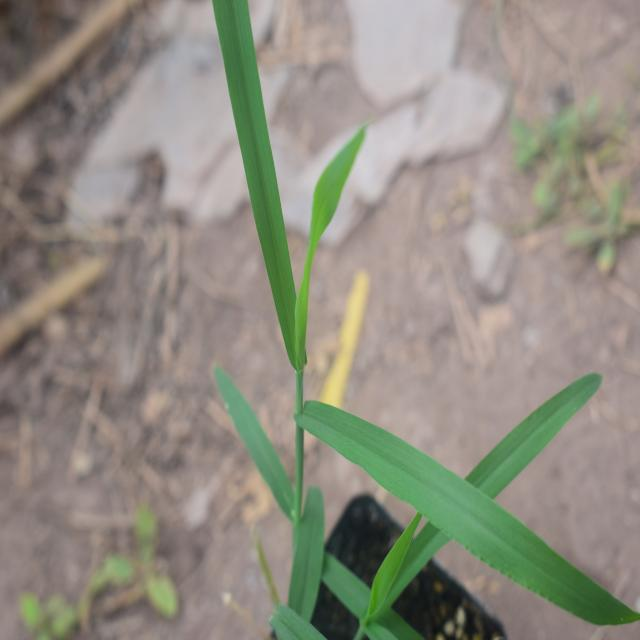crabgrass: (216, 8, 546, 617)
